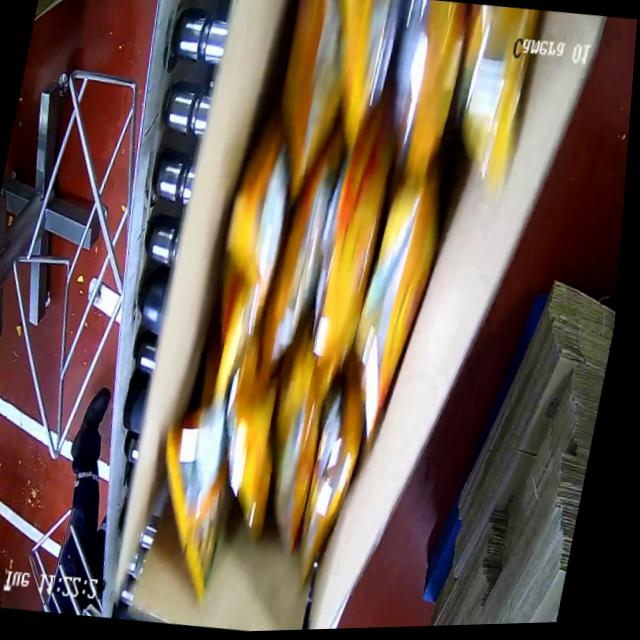FRENCH_CHEESE: (120, 0, 551, 618)
